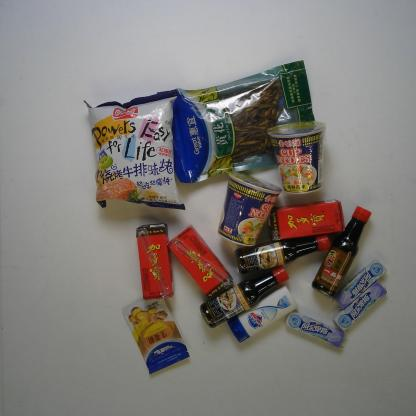Candy: (330, 254, 390, 311), (330, 280, 390, 334), (283, 308, 347, 351)
Dried Food: (169, 58, 327, 184)
Drink: (165, 222, 238, 303), (264, 195, 350, 245), (132, 219, 177, 302)
Instant Noodles: (214, 166, 286, 249), (263, 120, 332, 196)
Personal Hygiene: (222, 282, 300, 345)
Puffed Food: (82, 86, 189, 210)
Seasoner: (196, 264, 290, 332), (311, 204, 374, 301), (118, 296, 192, 378), (233, 232, 336, 276)
